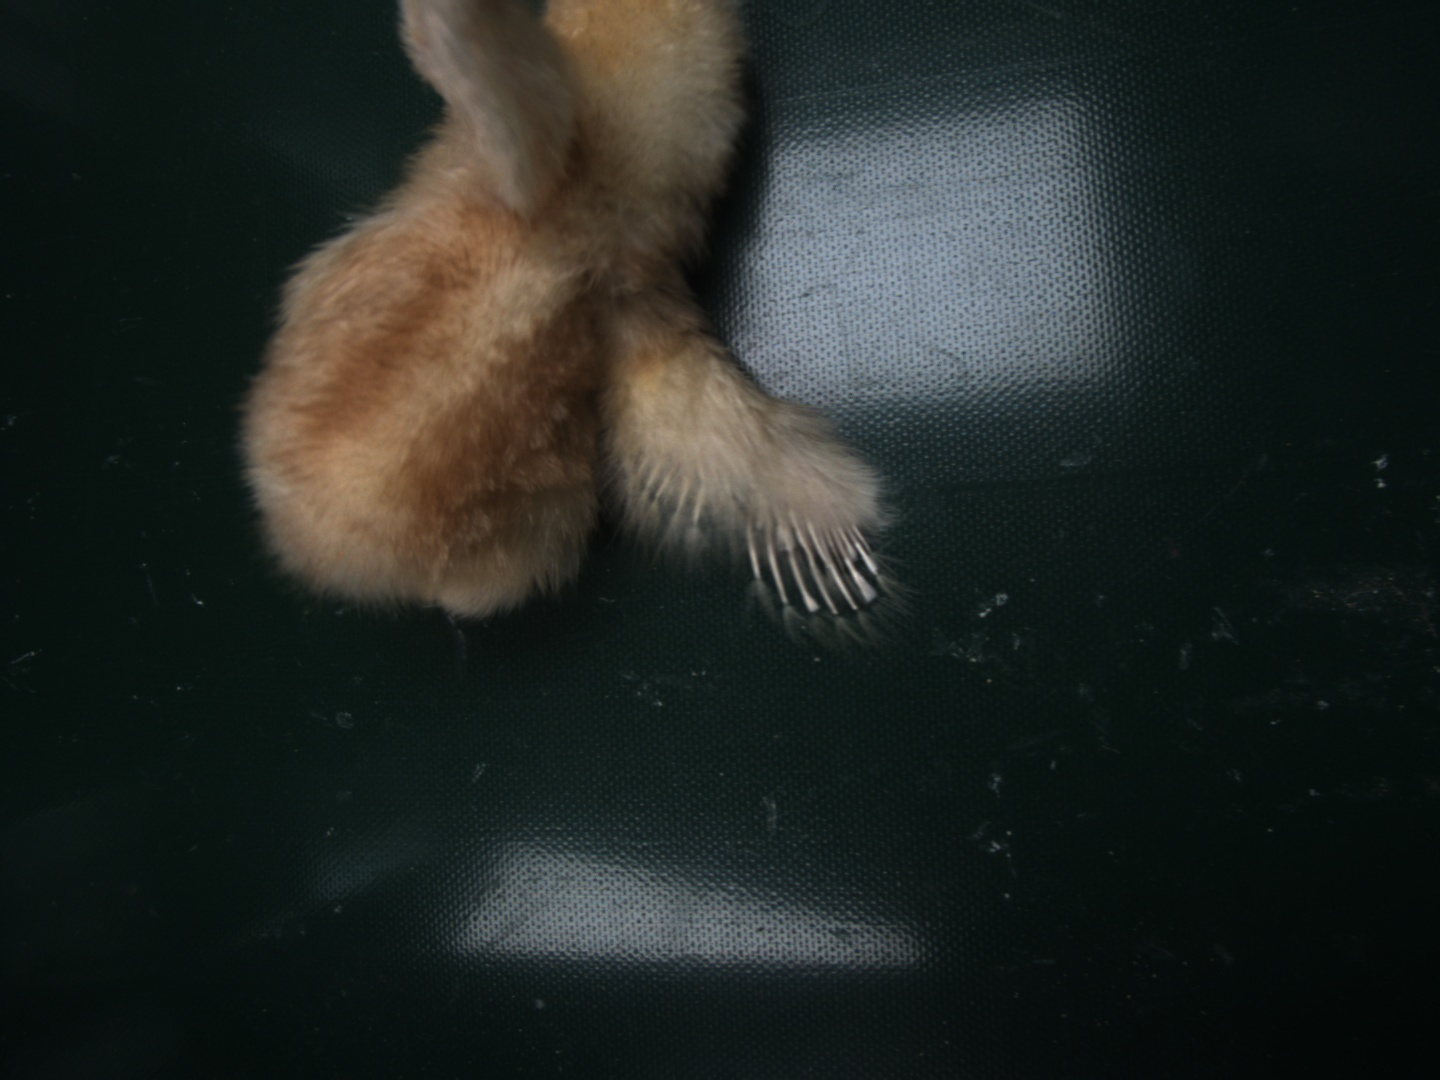female: (744, 506, 882, 614)
